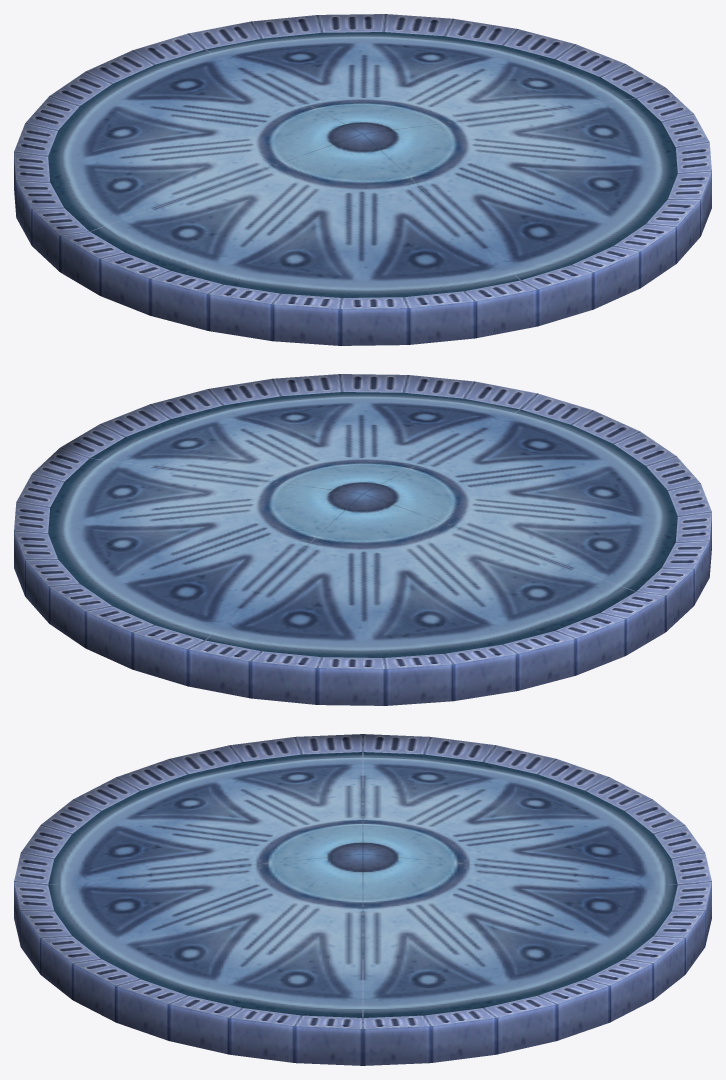
File: a_SEcenter03a.glb
The picture shows the model from 3 angles, top to bottom: view 1: azimuth 30°, elevation 25°; view 2: azimuth 150°, elevation 25°; view 3: azimuth 270°, elevation 25°; orthographic projection.
Parts seen in each view (by area): view 1: a_SEcenter03a; view 2: a_SEcenter03a; view 3: a_SEcenter03a.
Part boxes in pixels (x1=…): a_SEcenter03a: x1=14, y1=14, x2=711, y2=345; a_SEcenter03a: x1=14, y1=374, x2=711, y2=705; a_SEcenter03a: x1=14, y1=734, x2=711, y2=1065.
Bounding box in the file's own units: 8.27 × 0.8435 × 8.27.
1 material, 1 textured.
